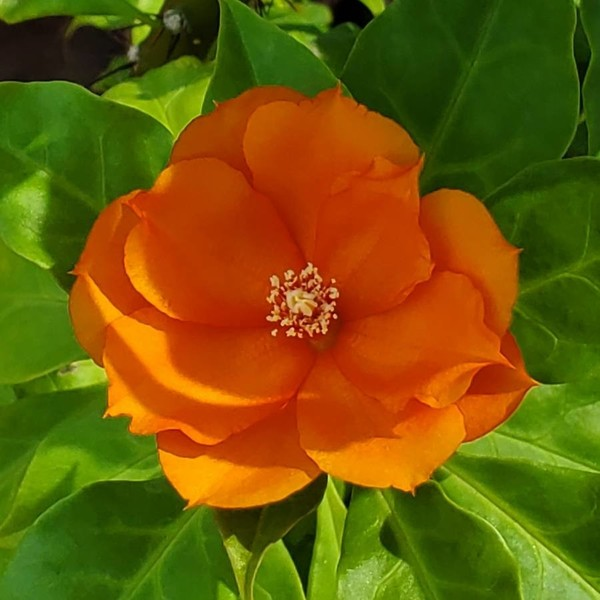obstacle: (6, 20, 569, 587)
